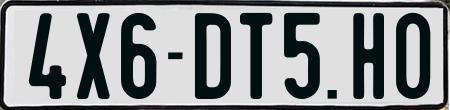0: (394, 12, 429, 98)
4: (29, 13, 72, 101)
5: (283, 13, 324, 104)
6: (121, 11, 160, 98)
D: (193, 11, 231, 99)
H: (353, 13, 390, 100)
T: (238, 11, 275, 101)
X: (77, 12, 112, 100)
